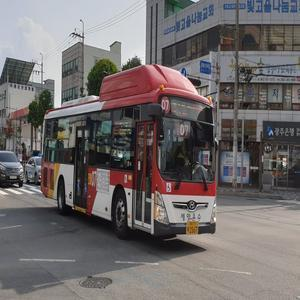07bus: (30, 71, 225, 239)
backdoor: (70, 120, 91, 212)
frontdoor: (130, 119, 161, 236)
